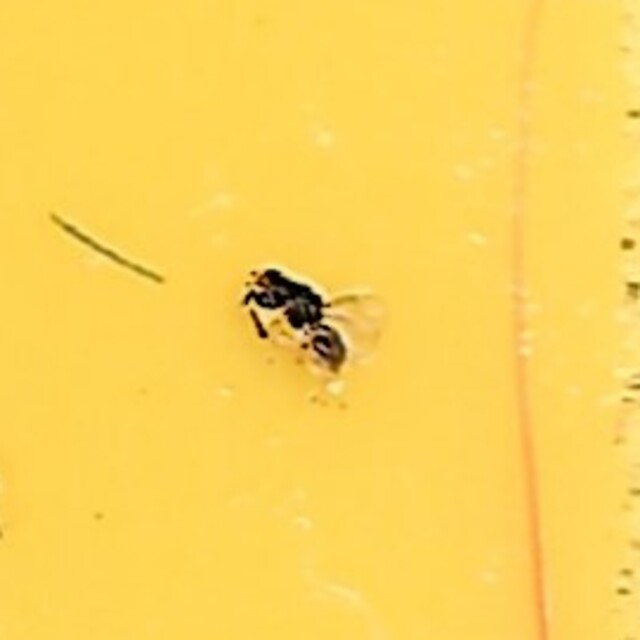Hymenoptera: (236, 254, 404, 386)
